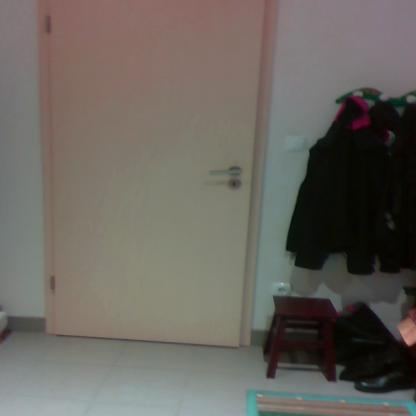door: (52, 0, 250, 349)
hinged: (46, 271, 59, 292), (44, 18, 55, 38)
lever: (207, 168, 243, 177)
